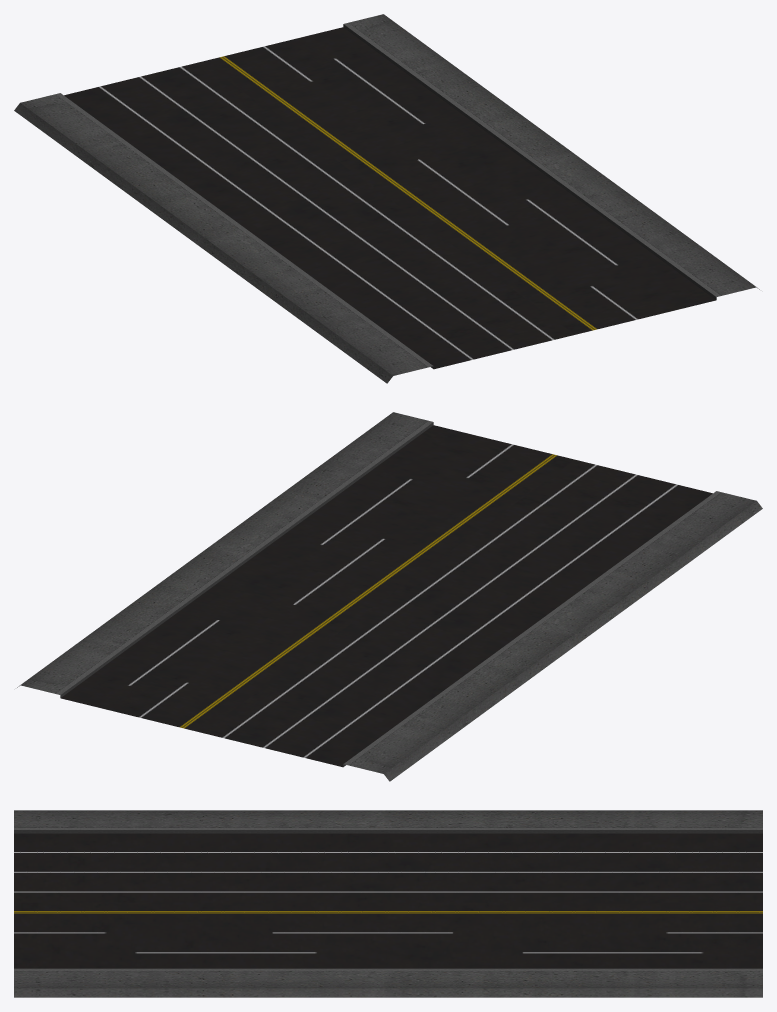
Rendered from RJs_Road 3+4 Basic Segment_F.fbx.
3 views of the same model, one above another, from view 1: azimuth 30°, elevation 25°; view 2: azimuth 150°, elevation 25°; view 3: azimuth 270°, elevation 25° (orthographic).
Visible parts, largest first — view 1: plane; view 2: plane; view 3: plane.
Part boxes in pixels (box(x1,y1,x2,y2)): plane: box(14, 14, 759, 383); plane: box(17, 412, 762, 781); plane: box(14, 810, 762, 997).
Bounding box in the file's own units: 3720 × 60.1 × 6400.
